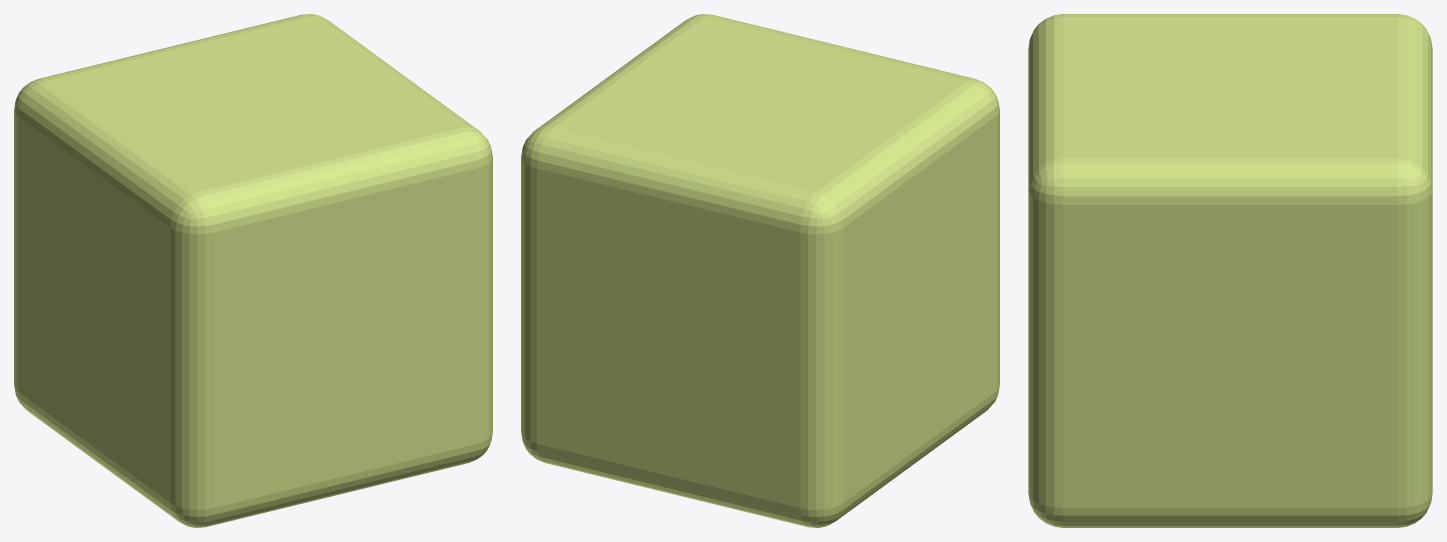
The picture shows the model from 3 angles, left to right: view 1: azimuth 30°, elevation 25°; view 2: azimuth 150°, elevation 25°; view 3: azimuth 270°, elevation 25°; orthographic projection. The views are drawn at different scales.
Visible parts, largest first — view 1: CubeElement; view 2: CubeElement; view 3: CubeElement.
Part boxes in pixels (bbox=[...]): CubeElement: bbox=[14, 14, 492, 527]; CubeElement: bbox=[521, 14, 999, 527]; CubeElement: bbox=[1028, 14, 1432, 527].
Size of the model in its own units: 2 by 2 by 2.
